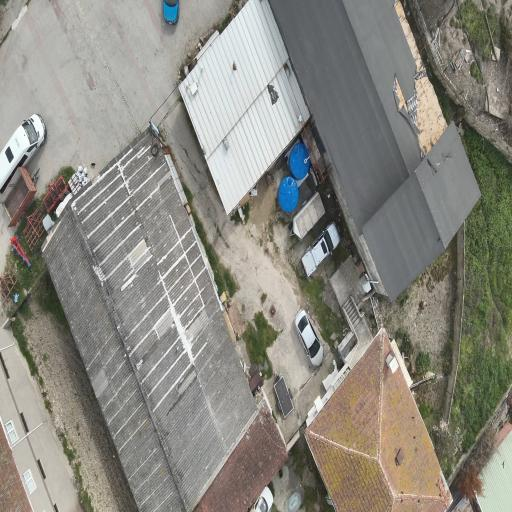car: (0, 114, 46, 198), (302, 221, 340, 275), (295, 309, 323, 365), (251, 485, 273, 511), (163, 0, 178, 23)
